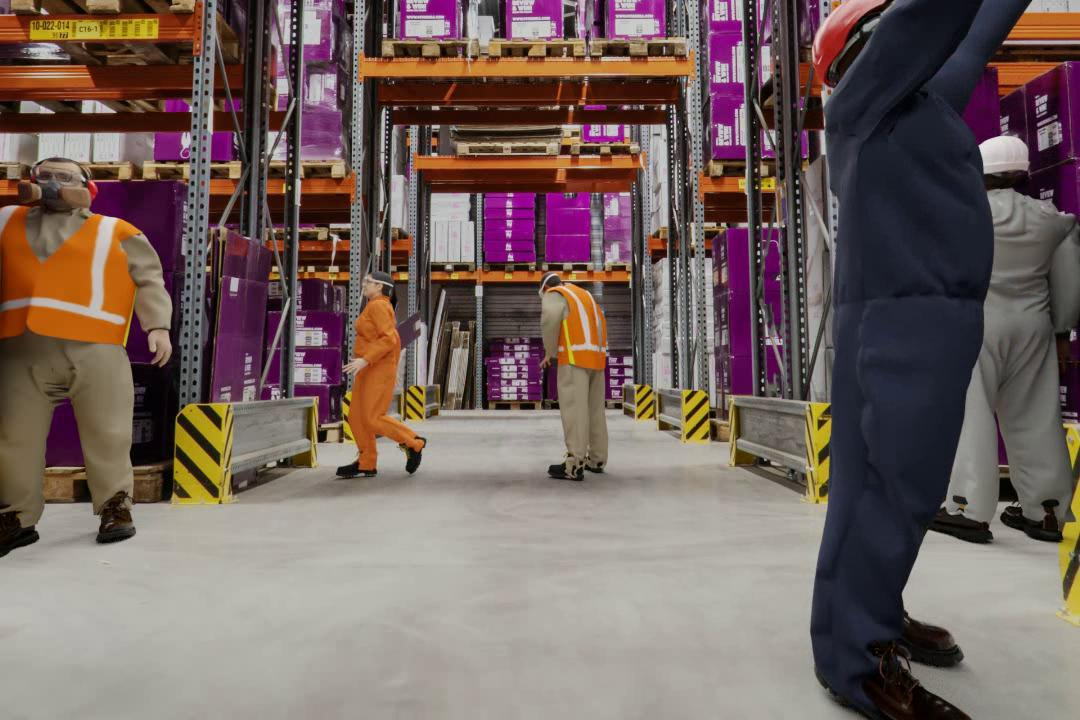Helmet: (802, 2, 885, 70), (961, 131, 1034, 175)
Jacket: (8, 199, 121, 344), (550, 283, 608, 361)
Shoes: (819, 621, 967, 720), (917, 598, 985, 674), (916, 497, 993, 543), (999, 498, 1064, 544), (91, 491, 135, 547), (0, 509, 40, 566), (404, 435, 427, 473), (548, 461, 584, 482), (335, 463, 378, 478), (585, 459, 604, 472)
